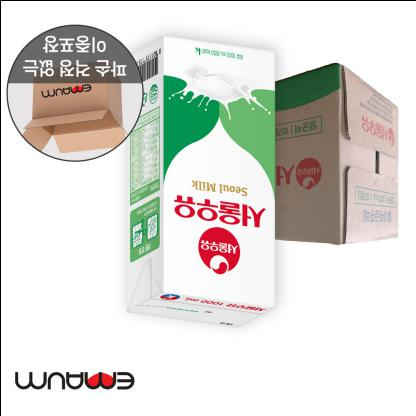tetra: (108, 33, 284, 351)
